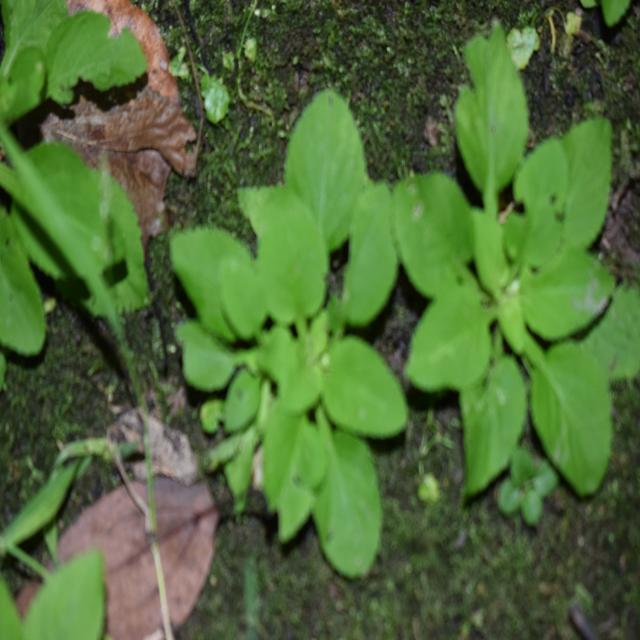Viola: (190, 113, 429, 553), (408, 54, 620, 508)
